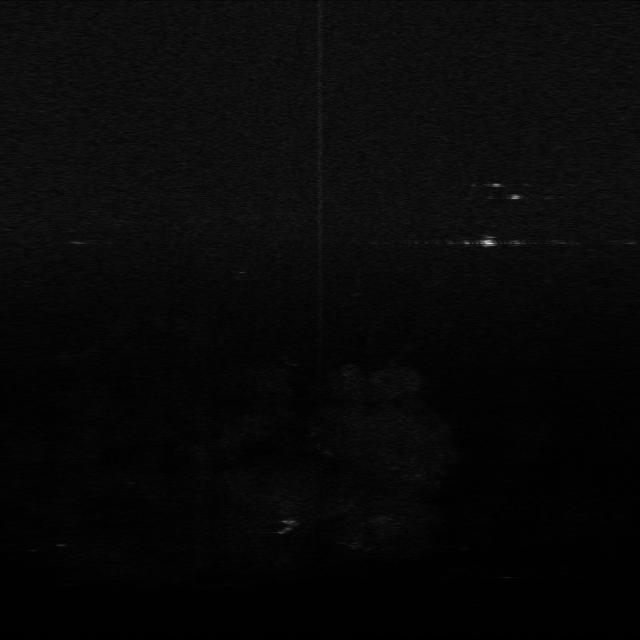rov: (479, 234, 498, 250)
